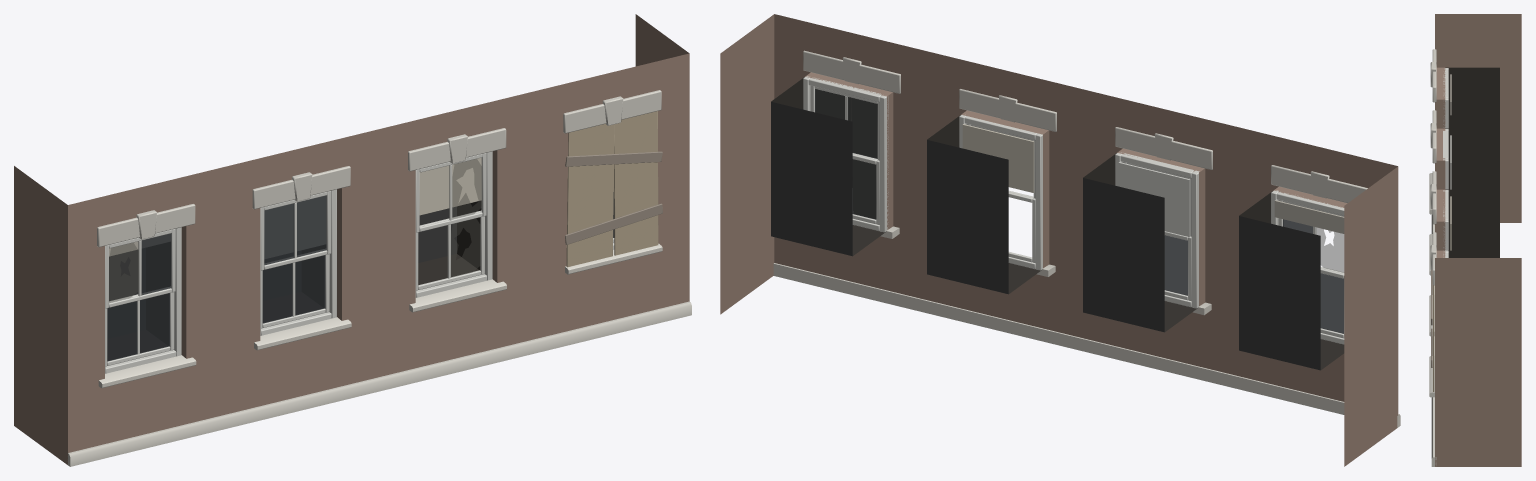
File: upper_8c.glb
The picture shows the model from 3 angles, left to right: view 1: azimuth 30°, elevation 25°; view 2: azimuth 150°, elevation 25°; view 3: azimuth 270°, elevation 25°; orthographic projection. The views are drawn at different scales.
Visible parts, largest first — view 1: upper_8c; view 2: upper_8c; view 3: upper_8c.
Part boxes in pixels (x1=…): upper_8c: x1=14, y1=14, x2=691, y2=466; upper_8c: x1=720, y1=14, x2=1400, y2=466; upper_8c: x1=1429, y1=14, x2=1521, y2=466.
Bounding box in the file's own units: 8 × 3.2 × 1.28.
